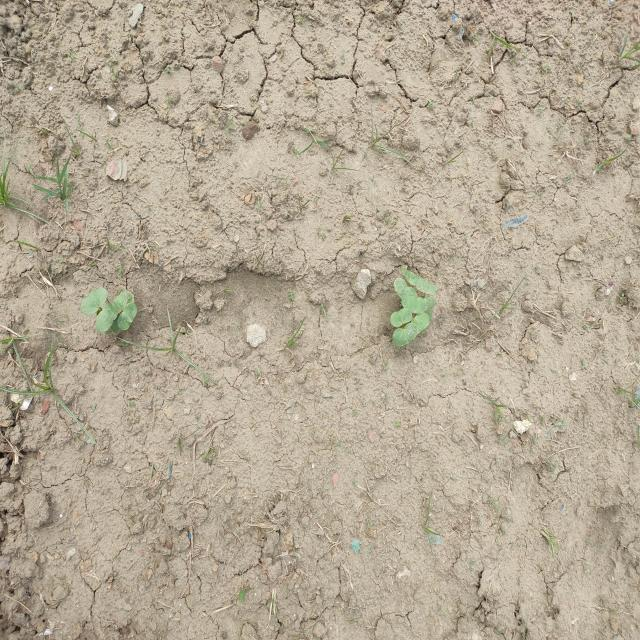seedling_s2: (81, 288, 108, 314), (97, 302, 119, 332), (392, 323, 417, 348), (118, 302, 137, 330), (394, 278, 417, 298), (402, 295, 426, 314), (411, 312, 430, 335), (390, 308, 412, 327), (402, 266, 420, 285), (416, 279, 436, 295), (113, 294, 127, 315), (424, 297, 435, 311)
